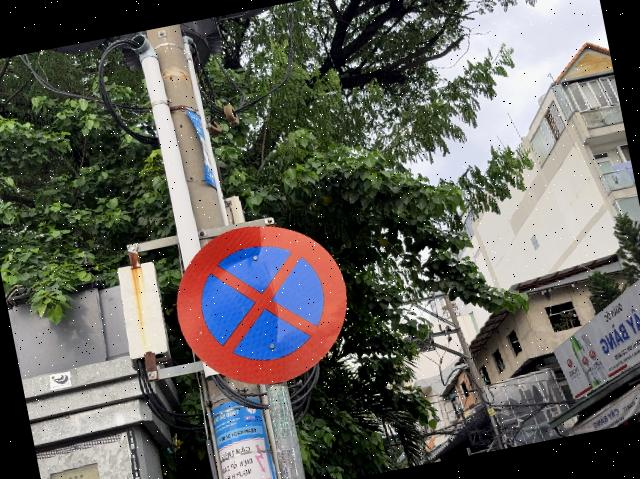cam-dung-va-do-xe: (162, 208, 362, 400)
